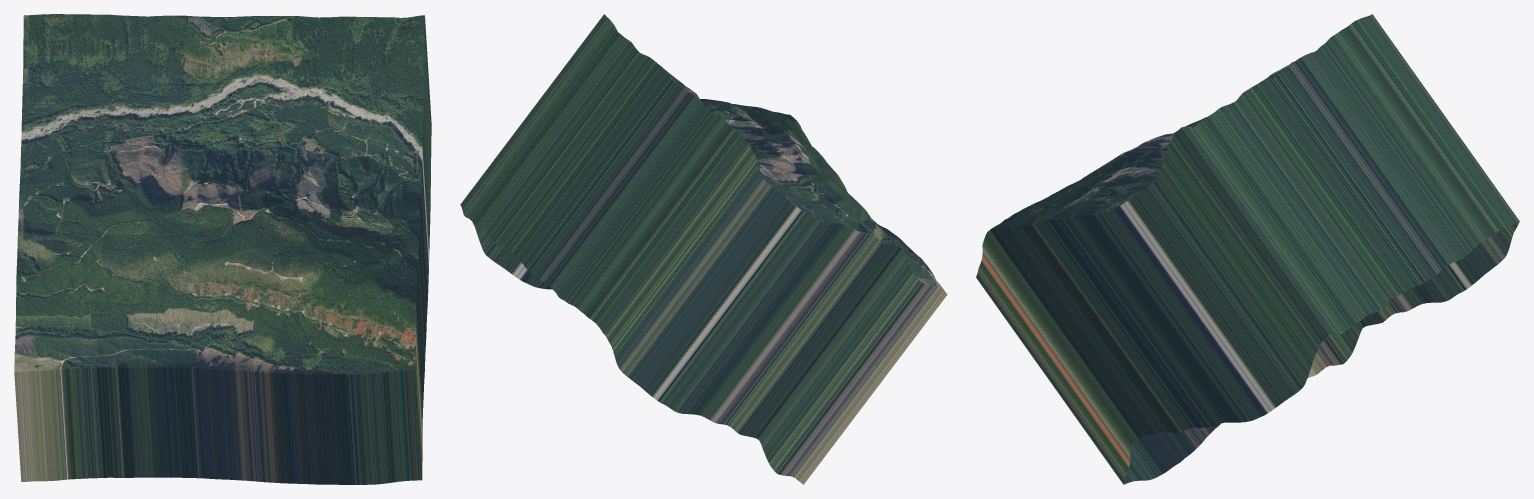
3 views of the same model, side by side, from view 1: azimuth 30°, elevation 25°; view 2: azimuth 150°, elevation 25°; view 3: azimuth 270°, elevation 25° (orthographic). The views are drawn at different scales.
Size of the model in its own units: 5982 by 4991 by 6406.
Materials: 1 (1 with a texture image).
